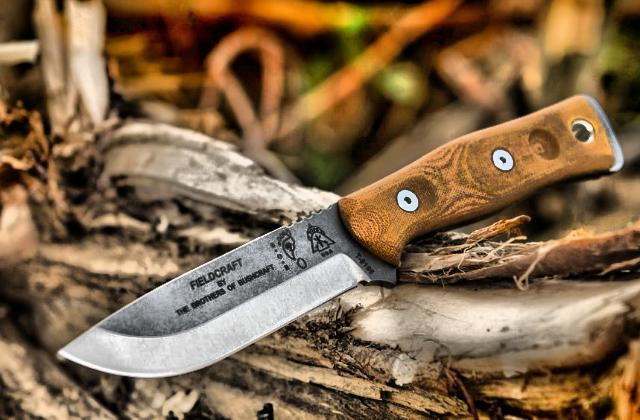knife: (48, 189, 410, 391)
